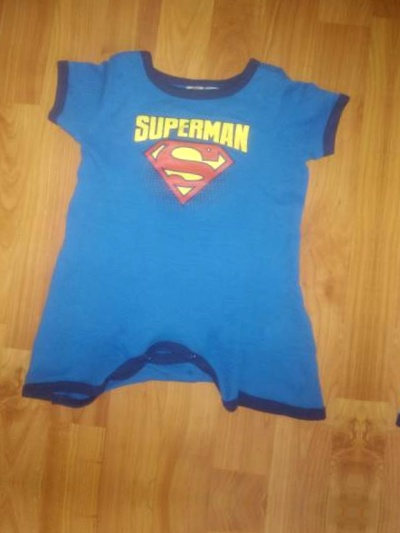Body: (0, 10, 377, 440), (378, 44, 400, 474)
